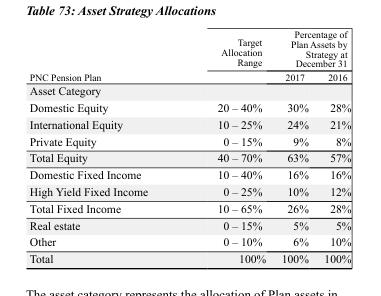table: (28, 28, 350, 264)
table column: (28, 28, 181, 264), (181, 28, 272, 264), (272, 28, 315, 264), (315, 28, 350, 264)
table column header: (28, 28, 350, 82)
table projected row header: (28, 82, 350, 98)
table row: (28, 28, 350, 69), (28, 98, 350, 115), (28, 115, 350, 132), (28, 132, 350, 149), (28, 165, 350, 182), (28, 182, 350, 199), (28, 199, 350, 216), (28, 216, 350, 233), (28, 82, 350, 98), (28, 149, 350, 165), (28, 233, 350, 249), (28, 249, 350, 264), (28, 69, 350, 82)
table spanning cell: (28, 28, 181, 82), (181, 28, 272, 82), (272, 28, 350, 69)
